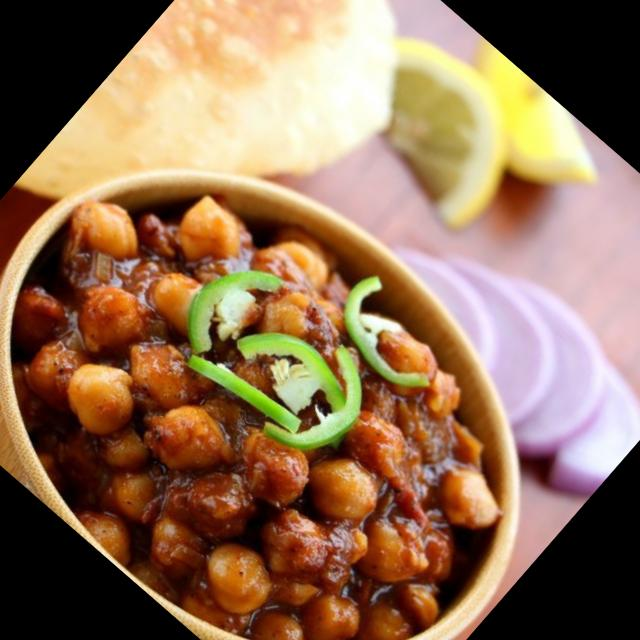Bhatura: (14, 0, 472, 343)
Chole: (0, 101, 580, 640)
